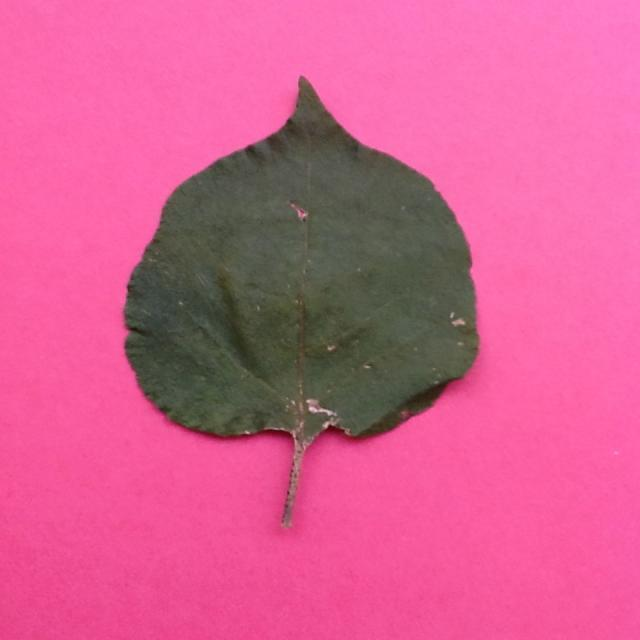foliage: (122, 72, 484, 527)
